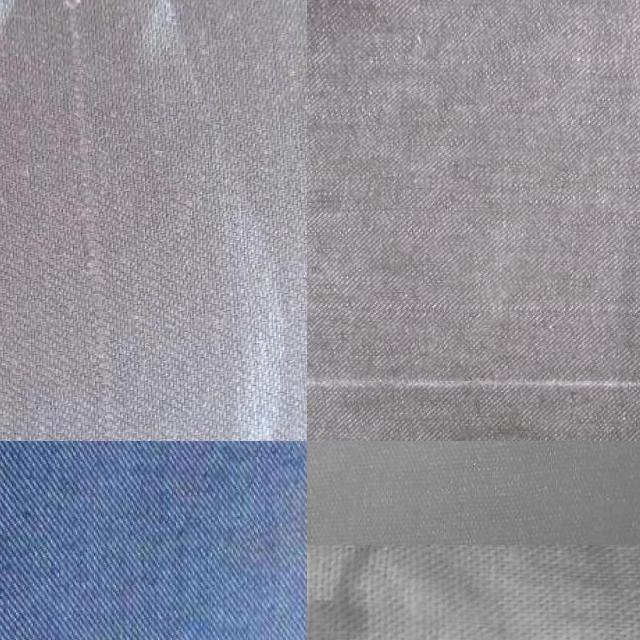Thread_other: (13, 0, 143, 441), (307, 200, 640, 350), (86, 517, 307, 640)
